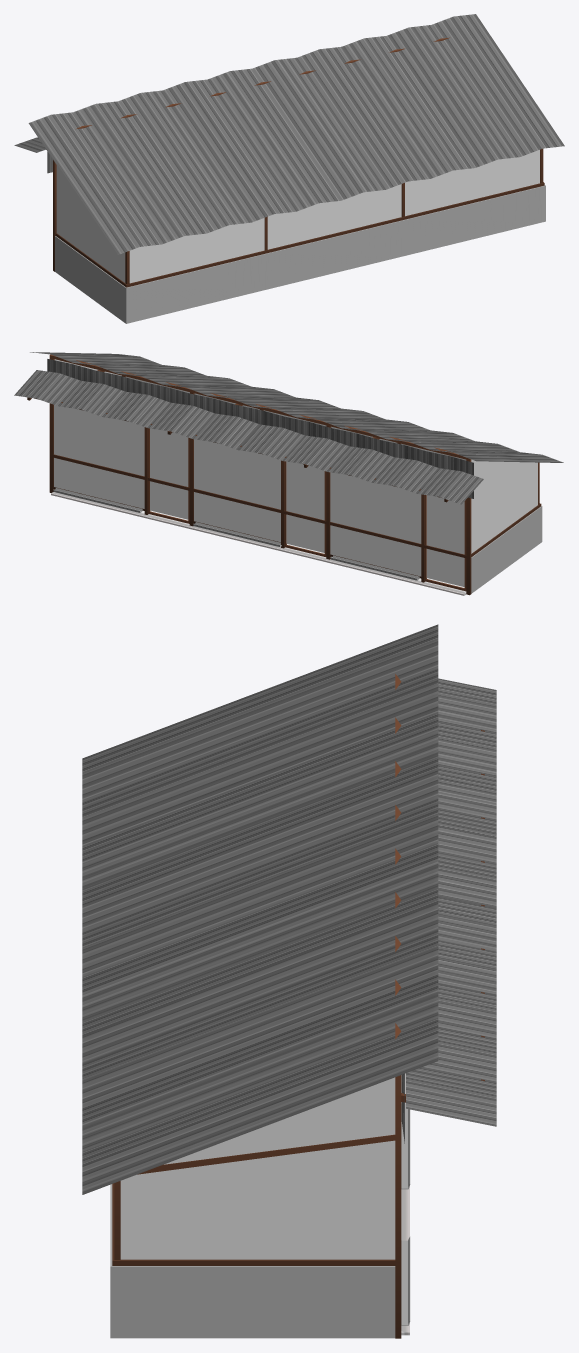
The model's file is KandangAyam.fbx.
3 views of the same model, one above another, from view 1: azimuth 30°, elevation 25°; view 2: azimuth 150°, elevation 25°; view 3: azimuth 270°, elevation 25° (orthographic). The views are drawn at different scales.
Parts seen in each view (by area): view 1: KandangAyam-Atap_LOD0, KandangAyam-Wall_LOD0, KandangAyam_Wire, KandangAyam-Kandang_LOD0; view 2: KandangAyam_Wire, KandangAyam-Atap_LOD0, KandangAyam-Kandang_LOD0, KandangAyam-Wall_LOD0, KandangAyam-Floor_LOD0, KandangAyam-Pintu_LOD0, KadangAyam-Pakan_LOD0; view 3: KandangAyam-Atap_LOD0, KandangAyam_Wire, KandangAyam-Wall_LOD0, KandangAyam-Kandang_LOD0, KadangAyam-Pakan_LOD0.
Boxes of the visible parts, left/top/right/bottom form: KandangAyam-Atap_LOD0: left=14, top=14, right=564, bottom=255; KandangAyam-Wall_LOD0: left=55, top=185, right=545, bottom=323; KandangAyam_Wire: left=56, top=150, right=539, bottom=283; KandangAyam-Kandang_LOD0: left=53, top=37, right=544, bottom=287; KandangAyam_Wire: left=54, top=359, right=537, bottom=586; KandangAyam-Atap_LOD0: left=14, top=352, right=563, bottom=504; KandangAyam-Kandang_LOD0: left=27, top=354, right=541, bottom=595; KandangAyam-Wall_LOD0: left=54, top=489, right=542, bottom=593; KandangAyam-Floor_LOD0: left=51, top=492, right=466, bottom=595; KandangAyam-Pintu_LOD0: left=147, top=428, right=466, bottom=591; KadangAyam-Pakan_LOD0: left=53, top=488, right=419, bottom=580; KandangAyam-Atap_LOD0: left=82, top=624, right=496, bottom=1194; KandangAyam_Wire: left=120, top=1077, right=395, bottom=1259; KandangAyam-Wall_LOD0: left=110, top=1184, right=395, bottom=1338; KandangAyam-Kandang_LOD0: left=112, top=674, right=484, bottom=1338; KadangAyam-Pakan_LOD0: left=401, top=1104, right=410, bottom=1325.
Size of what is drawn, in the model's own units: 1438 by 453 by 576.
